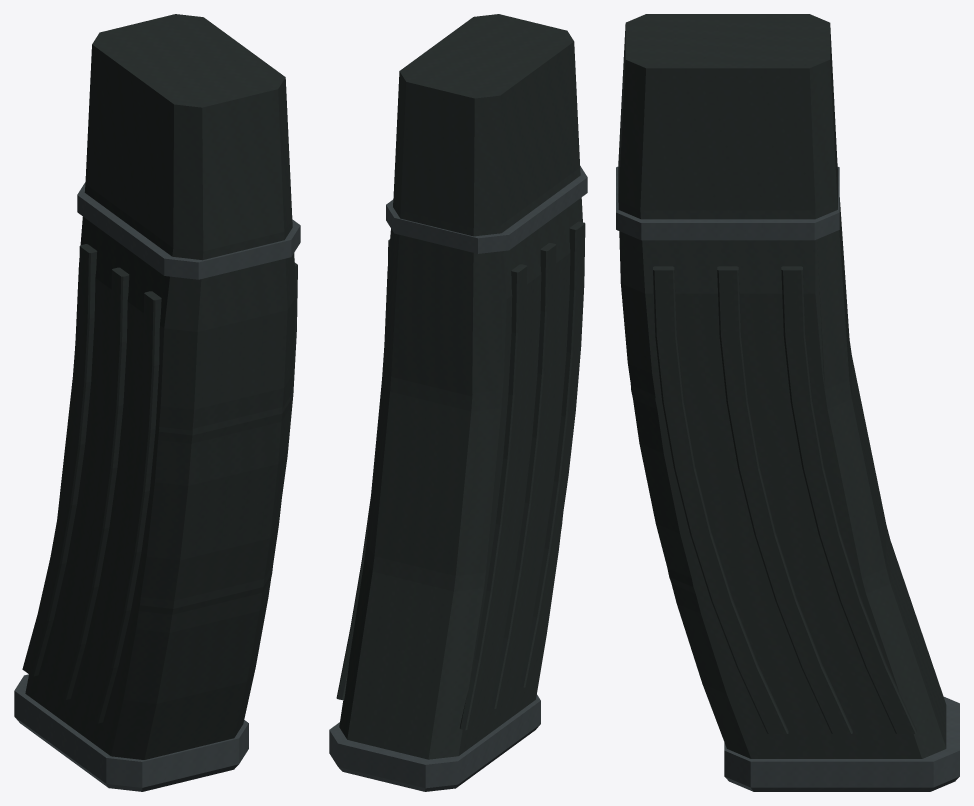
The picture shows the model from 3 angles, left to right: view 1: azimuth 30°, elevation 25°; view 2: azimuth 150°, elevation 25°; view 3: azimuth 270°, elevation 25°; orthographic projection. The views are drawn at different scales.
Visible parts, largest first — view 1: ak545_30_curved_shell_0, ak545_30_curved_shell_1, ak545_30_floorplate_0; view 2: ak545_30_curved_shell_1, ak545_30_curved_shell_0, ak545_30_floorplate_0; view 3: ak545_30_curved_shell_0, ak545_30_curved_shell_1, ak545_30_floorplate_0.
Boxes of the visible parts, x1,y1,x2,y2 form: ak545_30_curved_shell_0: [22, 14, 297, 759]; ak545_30_curved_shell_1: [25, 346, 291, 754]; ak545_30_floorplate_0: [14, 182, 300, 791]; ak545_30_curved_shell_1: [339, 199, 566, 759]; ak545_30_curved_shell_0: [336, 14, 585, 741]; ak545_30_floorplate_0: [329, 165, 587, 791]; ak545_30_curved_shell_0: [618, 14, 920, 758]; ak545_30_curved_shell_1: [630, 163, 946, 758]; ak545_30_floorplate_0: [616, 166, 959, 791].
Bounding box in the file's own units: 0.07 × 0.333 × 0.1445.
2 materials, 2 textured.
